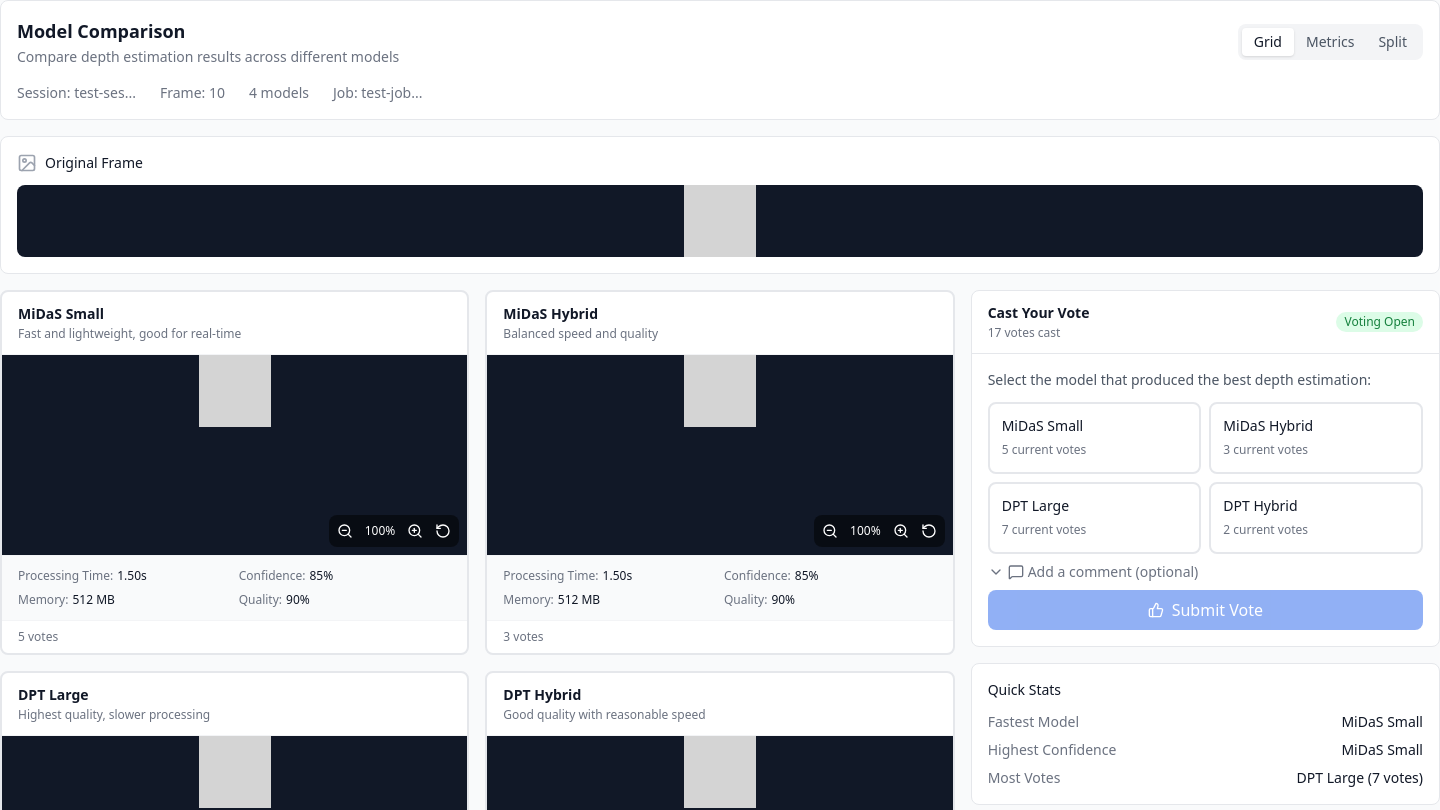
ModelComparisonView › view mode tabs › should switch to Metrics view when tab is clicked
Click the tab "Metrics" at [1330, 42], box [1294,28,1366,56]
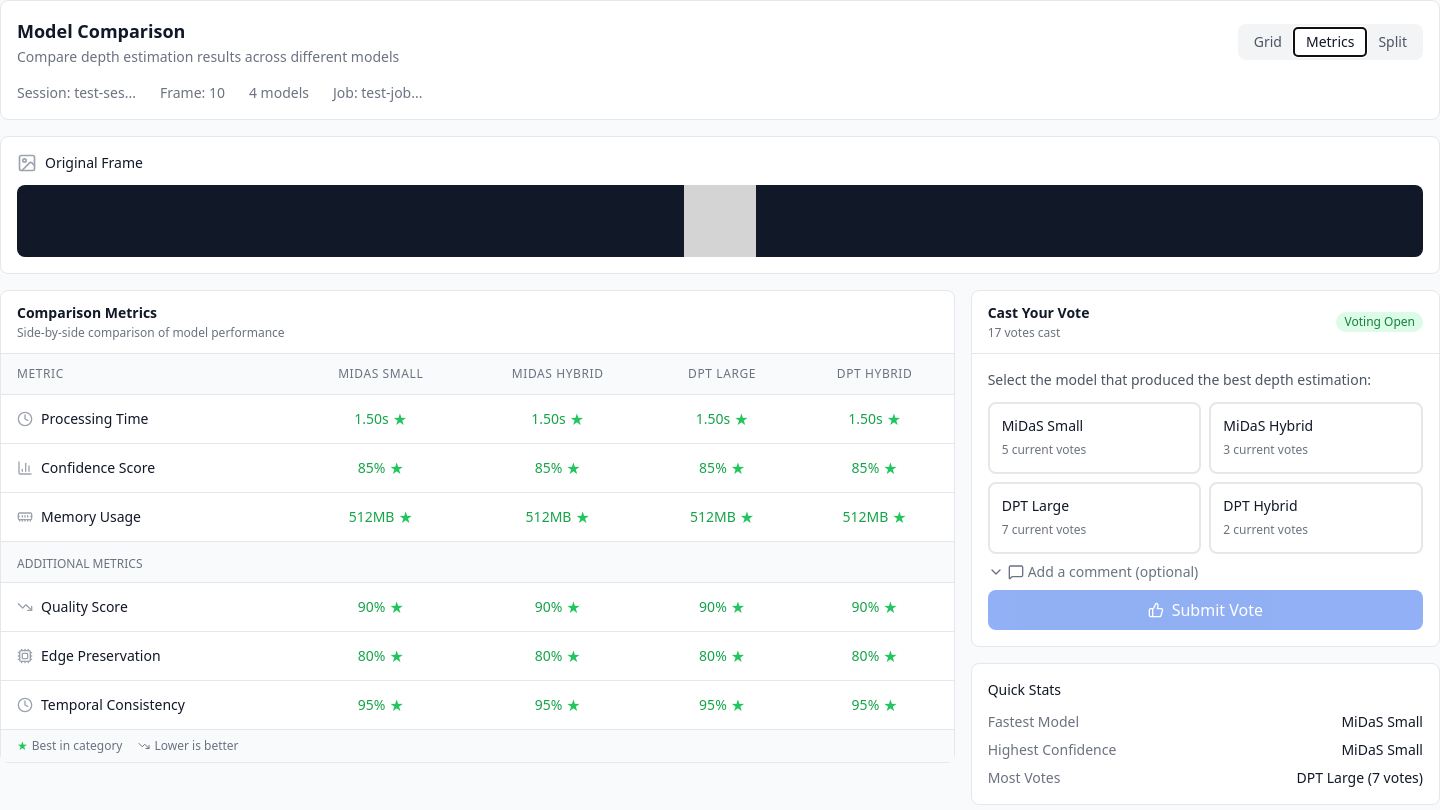
expect the heading "Comparison Metrics" is shown: met, box [17,303,157,322]
